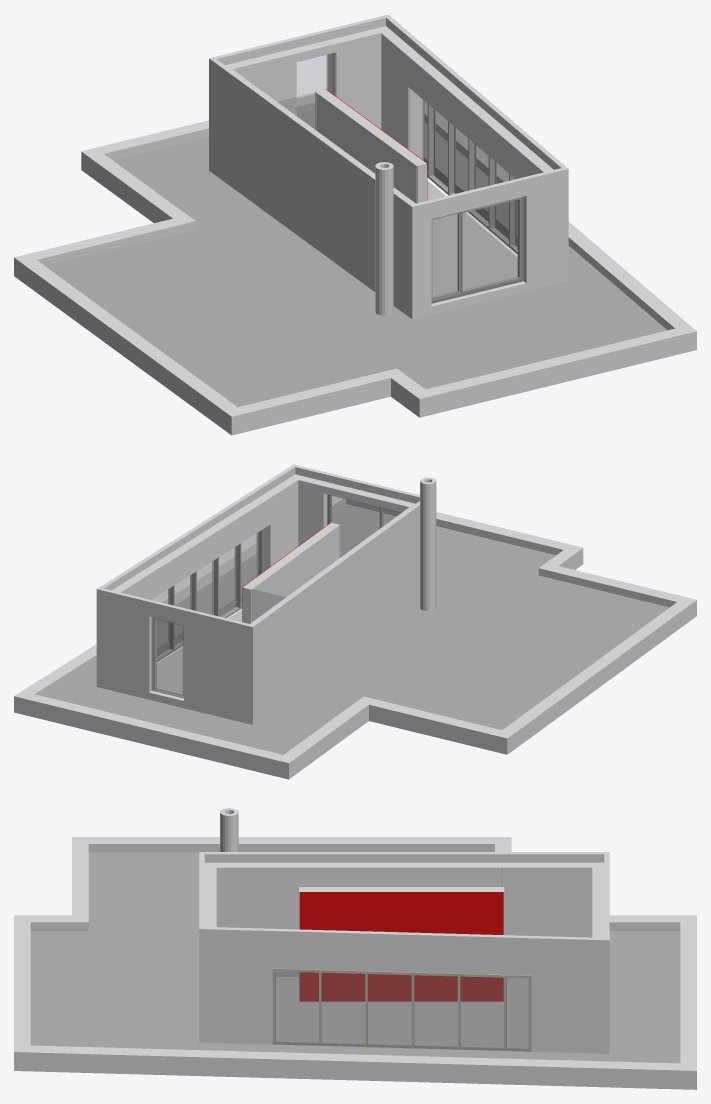
3 renders of one model, top to bottom at view 1: azimuth 30°, elevation 25°; view 2: azimuth 150°, elevation 25°; view 3: azimuth 270°, elevation 25°, orthographic. The views are drawn at different scales.
Visible parts, largest first — view 1: 0hm_TZ7fj2wQv5AxxV1KqF, 2WZdO$9lP51fVli8sT5dFZ, 1XbKhGD91DvhOpYZbhzGTI, 2ABTOtP4HAZgIuV7LUYbfs, 2eKNhkT$f0P8WjqeWWO9d3, 3v_fSEaFj0kvittt0GMC6P, 3VFVgZuu9FQuS2Mqppb_Sx, 1xDxwUqSzFmuKUZMtQ$inu, 0esmtE2Hf1Gh7NvUntvp15, 1E8YkwPMfB$h99jtn_uAjI, 2k7AL9Q4vAfOld2Ju8s3DV, 1BGpia0iv9cfH1lqT0_P80 (+15 smaller); view 2: 0hm_TZ7fj2wQv5AxxV1KqF, 2WZdO$9lP51fVli8sT5dFZ, 1mrgg_O_bBBv_tvdtVwK59, 1JvbY8kMDEABlCGvBALl1o, 3VFVgZuu9FQuS2Mqppb_Sx, 3v_fSEaFj0kvittt0GMC6P, 1E8YkwPMfB$h99jtn_uAjI, 3qjAeGBfzBuuFMRvmfvcZp, 12tTUwhDX7_Q0B3Y0eszsq, 1BGpia0iv9cfH1lqT0_P80, 3fk360iVDEdvsphxoNSy5M, 2eKNhkT$f0P8WjqeWWO9d3 (+16 smaller); view 3: 0hm_TZ7fj2wQv5AxxV1KqF, 1E8YkwPMfB$h99jtn_uAjI, 1BGpia0iv9cfH1lqT0_P80, 2D8Lqs0AfAL91eMWImqY0y, 0esmtE2Hf1Gh7NvUntvp15, 2WZdO$9lP51fVli8sT5dFZ, 3yGz3Axn9C_Oiq75x5GOZW, 3v_fSEaFj0kvittt0GMC6P, 0fovPR3hjBTOiDxHc0SKR9, 2UKE52UPL1ePRWFkZqVfWm, 28Fol_2rT8D93IPNMW2ztB, 14rw$C3xD3ZeUJL3YaqCEK (+13 smaller).
Part boxes in pixels (x1,y1,x2,y2): 0hm_TZ7fj2wQv5AxxV1KqF: [45, 111, 667, 406]; 2WZdO$9lP51fVli8sT5dFZ: [211, 59, 414, 317]; 1XbKhGD91DvhOpYZbhzGTI: [409, 167, 568, 319]; 2ABTOtP4HAZgIuV7LUYbfs: [431, 196, 523, 303]; 2eKNhkT$f0P8WjqeWWO9d3: [416, 326, 696, 417]; 3v_fSEaFj0kvittt0GMC6P: [16, 258, 242, 435]; 3VFVgZuu9FQuS2Mqppb_Sx: [381, 32, 543, 178]; 1xDxwUqSzFmuKUZMtQ$inu: [232, 32, 381, 129]; 0esmtE2Hf1Gh7NvUntvp15: [427, 180, 517, 296]; 1E8YkwPMfB$h99jtn_uAjI: [377, 14, 565, 171]; 2k7AL9Q4vAfOld2Ju8s3DV: [234, 368, 401, 433]; 1BGpia0iv9cfH1lqT0_P80: [424, 101, 693, 330]; 0hm_TZ7fj2wQv5AxxV1KqF: [43, 504, 669, 754]; 2WZdO$9lP51fVli8sT5dFZ: [250, 501, 419, 722]; 1mrgg_O_bBBv_tvdtVwK59: [100, 588, 255, 724]; 1JvbY8kMDEABlCGvBALl1o: [14, 692, 291, 779]; 3VFVgZuu9FQuS2Mqppb_Sx: [120, 480, 298, 599]; 3v_fSEaFj0kvittt0GMC6P: [502, 598, 696, 752]; 1E8YkwPMfB$h99jtn_uAjI: [96, 466, 297, 687]; 3qjAeGBfzBuuFMRvmfvcZp: [359, 696, 509, 754]; 12tTUwhDX7_Q0B3Y0eszsq: [252, 525, 338, 621]; 1BGpia0iv9cfH1lqT0_P80: [17, 496, 346, 695]; 3fk360iVDEdvsphxoNSy5M: [151, 617, 183, 698]; 2eKNhkT$f0P8WjqeWWO9d3: [346, 499, 583, 565]; 0hm_TZ7fj2wQv5AxxV1KqF: [30, 852, 680, 1063]; 1E8YkwPMfB$h99jtn_uAjI: [204, 927, 609, 1053]; 1BGpia0iv9cfH1lqT0_P80: [19, 1045, 691, 1089]; 2D8Lqs0AfAL91eMWImqY0y: [299, 892, 503, 1001]; 0esmtE2Hf1Gh7NvUntvp15: [275, 977, 528, 1051]; 2WZdO$9lP51fVli8sT5dFZ: [204, 852, 604, 887]; 3yGz3Axn9C_Oiq75x5GOZW: [502, 867, 592, 937]; 3v_fSEaFj0kvittt0GMC6P: [72, 837, 505, 852]; 0fovPR3hjBTOiDxHc0SKR9: [216, 867, 301, 976]; 2UKE52UPL1ePRWFkZqVfWm: [301, 867, 501, 886]; 28Fol_2rT8D93IPNMW2ztB: [367, 974, 411, 1048]; 14rw$C3xD3ZeUJL3YaqCEK: [321, 972, 365, 1046].
Bounding box in the file's own units: 11.94 × 3.75 × 14.73.
